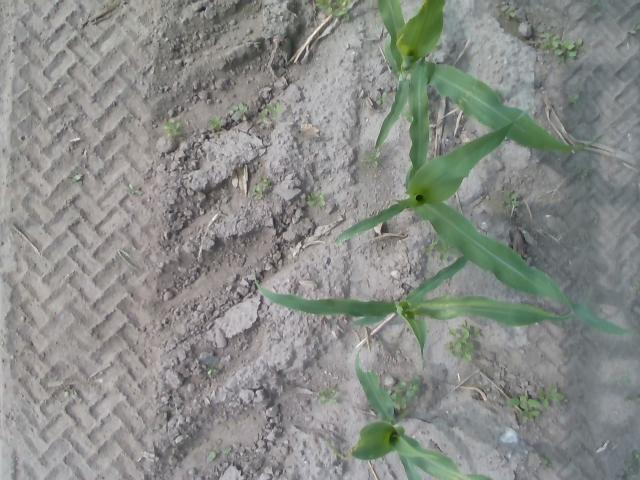Maize: (334, 106, 640, 338), (374, 3, 606, 192), (255, 252, 593, 360), (351, 342, 524, 479)
Weeds: (534, 34, 584, 63), (448, 322, 482, 364), (509, 391, 539, 425), (320, 2, 354, 22), (315, 381, 341, 407), (541, 385, 566, 411), (259, 102, 288, 123), (208, 444, 235, 465), (398, 378, 428, 396), (308, 188, 330, 211), (252, 176, 271, 200), (164, 117, 185, 137), (230, 103, 252, 120), (366, 148, 382, 171), (207, 112, 225, 130), (124, 184, 146, 198), (504, 190, 520, 209), (72, 167, 88, 185)
